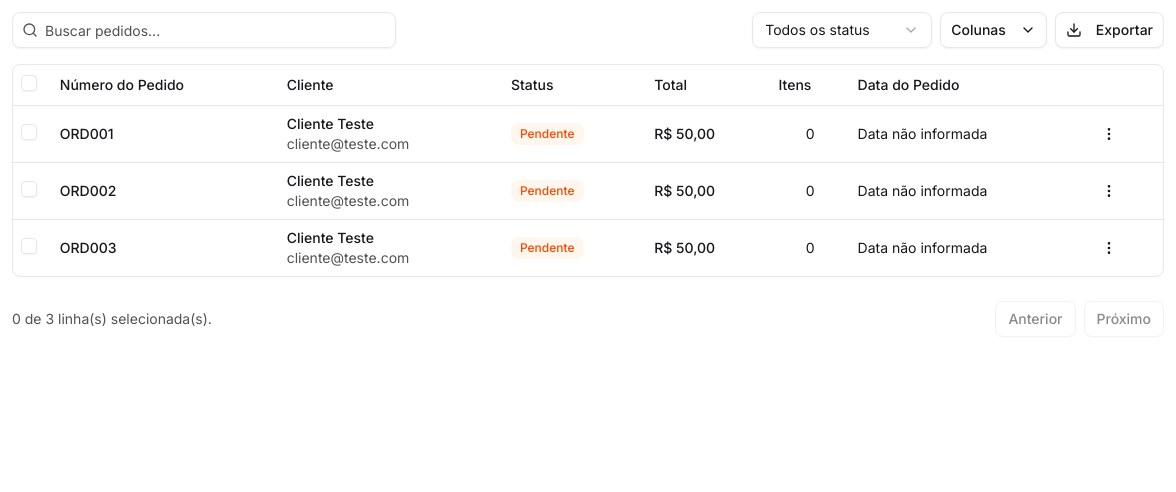
Test: Ações em Massa - DataTable › Exclusão em Massa › deve exibir barra de ações quando há pedidos selecionados
This screenshot has width=1176, height=492.
# Selecionar primeiro pedido
Click the checkbox named "Select row" next to "ORD001" at (29, 132), box 21,124 -> 37,140
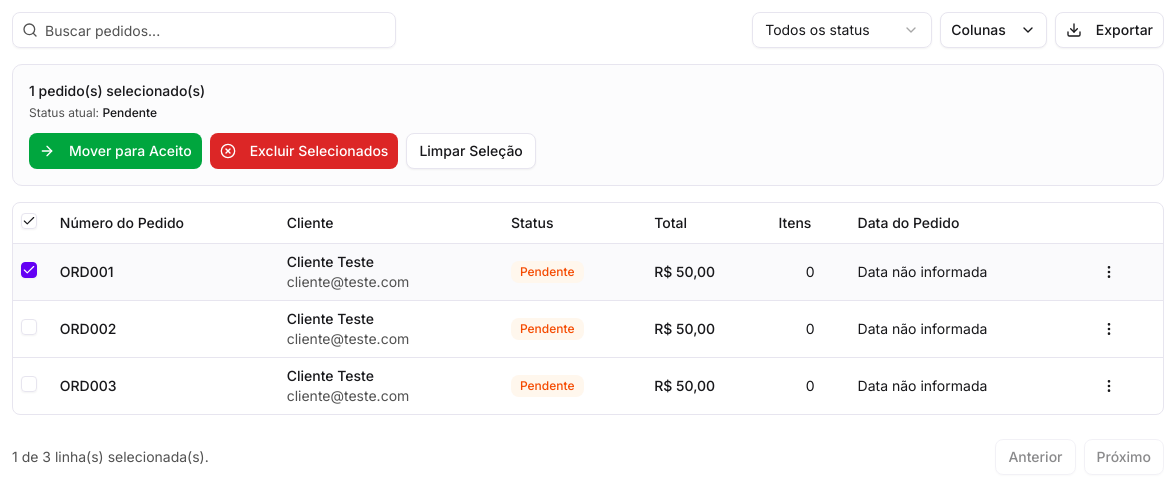
Now the text "1 pedido(s) selecionado(s)" is shown, box 29,82 -> 205,99
